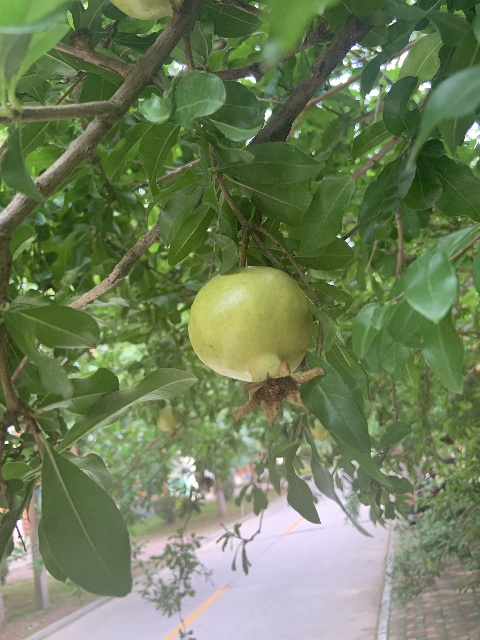mid-growth: (187, 265, 324, 426), (156, 405, 181, 439)
